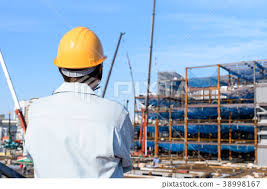helmet: (54, 27, 111, 69)
